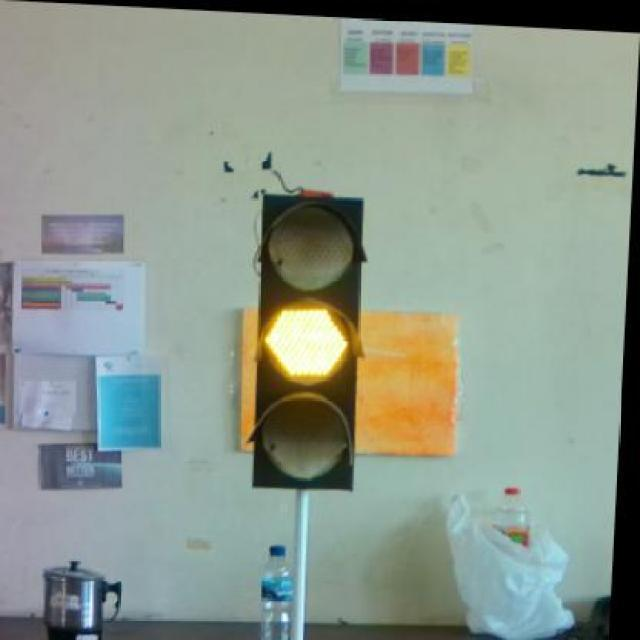yellow_light: (246, 173, 366, 492)
